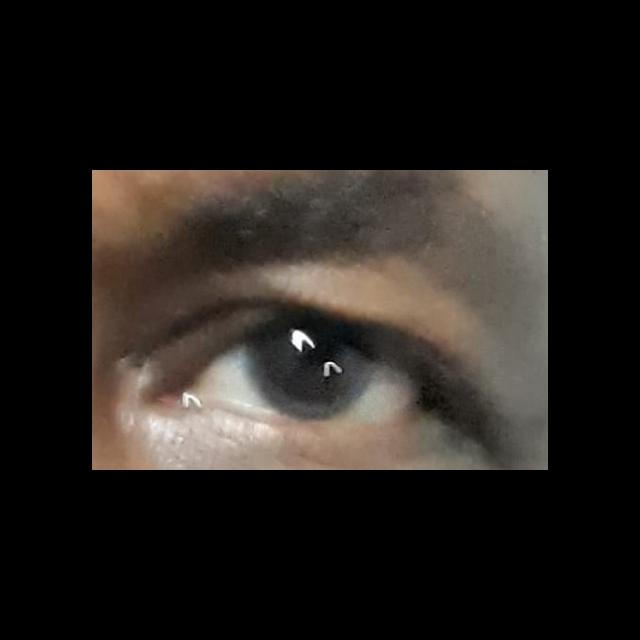eye: (195, 321, 423, 426)
iris: (243, 326, 380, 419)
